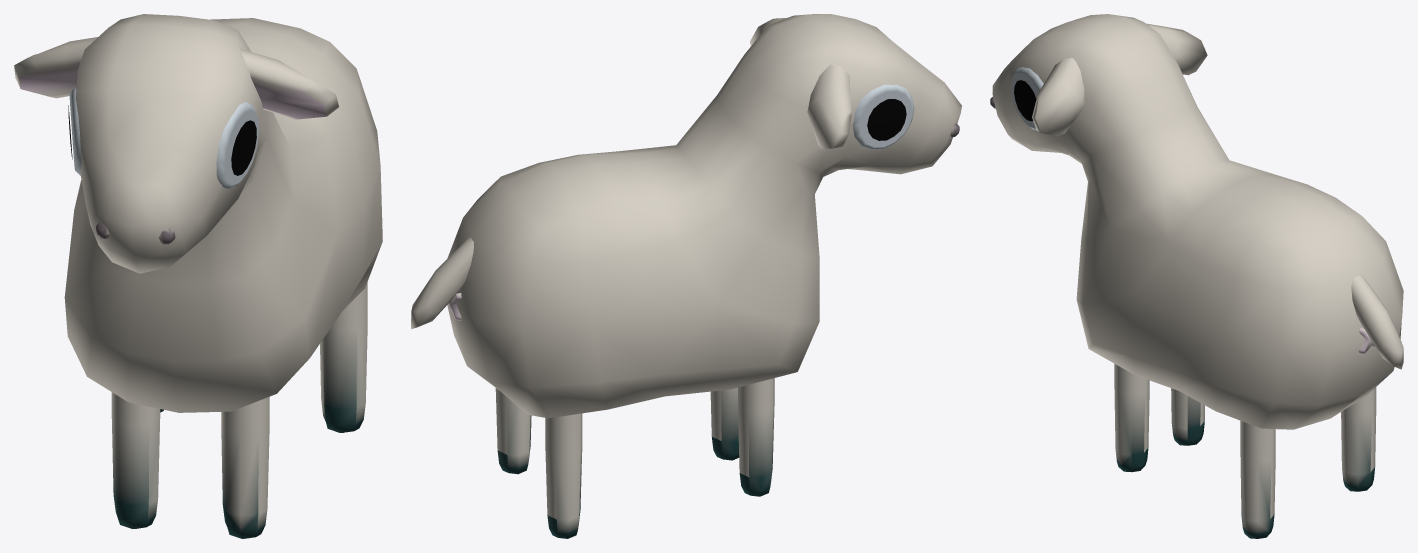
The model's file is Lamb.glb.
3 renders of one model, left to right at view 1: azimuth 30°, elevation 25°; view 2: azimuth 150°, elevation 25°; view 3: azimuth 270°, elevation 25°, orthographic. The views are drawn at different scales.
Visible parts, largest first — view 1: 88; view 2: 88; view 3: 88.
Part boxes in pixels (left/top/right/bottom): 88: left=14, top=14, right=382, bottom=538; 88: left=411, top=14, right=961, bottom=538; 88: left=990, top=14, right=1403, bottom=538.
Size of the model in its own units: 0.7429 by 0.8716 by 0.7899.
